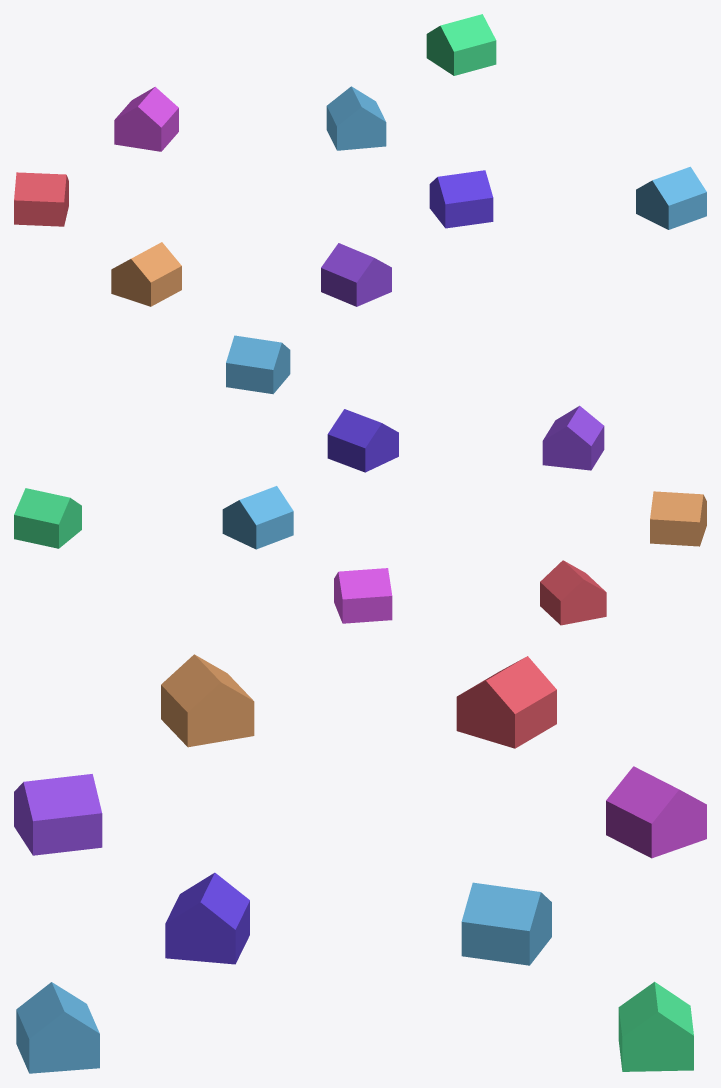
Rendered from towns8.dae.
3 views of the same model, one above another, from view 1: azimuth 30°, elevation 25°; view 2: azimuth 150°, elevation 25°; view 3: azimuth 270°, elevation 25° (orthographic). The views are drawn at different scales.
Parts seen in each view (by area): view 1: town.006, town.007, town.003, town.001, town.004, town.002, town.005, town.000; view 2: town.004, town.005, town.006, town.000, town.007, town.003, town.002, town.001; view 3: town.002, town.000, town.001, town.005, town.003, town.004, town.007, town.006.
Boxes of the visible parts, x1,y1,x2,y2 form: town.006: (426, 14, 496, 75); town.007: (636, 166, 706, 229); town.003: (321, 243, 391, 306); town.001: (111, 242, 181, 306); town.004: (429, 170, 493, 228); town.002: (114, 86, 178, 151); town.005: (326, 86, 386, 150); town.000: (14, 172, 68, 226); town.004: (327, 409, 398, 472); town.005: (222, 486, 293, 549); town.006: (14, 488, 81, 548); town.000: (540, 560, 606, 625); town.007: (226, 335, 290, 394); town.003: (542, 405, 604, 470); town.002: (334, 568, 392, 623); town.001: (650, 491, 706, 546); town.002: (606, 766, 706, 858); town.000: (456, 656, 556, 748); town.001: (161, 654, 254, 747); town.005: (461, 882, 551, 965); town.003: (14, 774, 102, 855); town.004: (165, 872, 249, 964); town.007: (16, 982, 99, 1073); town.006: (618, 981, 693, 1071).
Size of the model in its own units: 2.91 by 2.32 by 0.2186.
